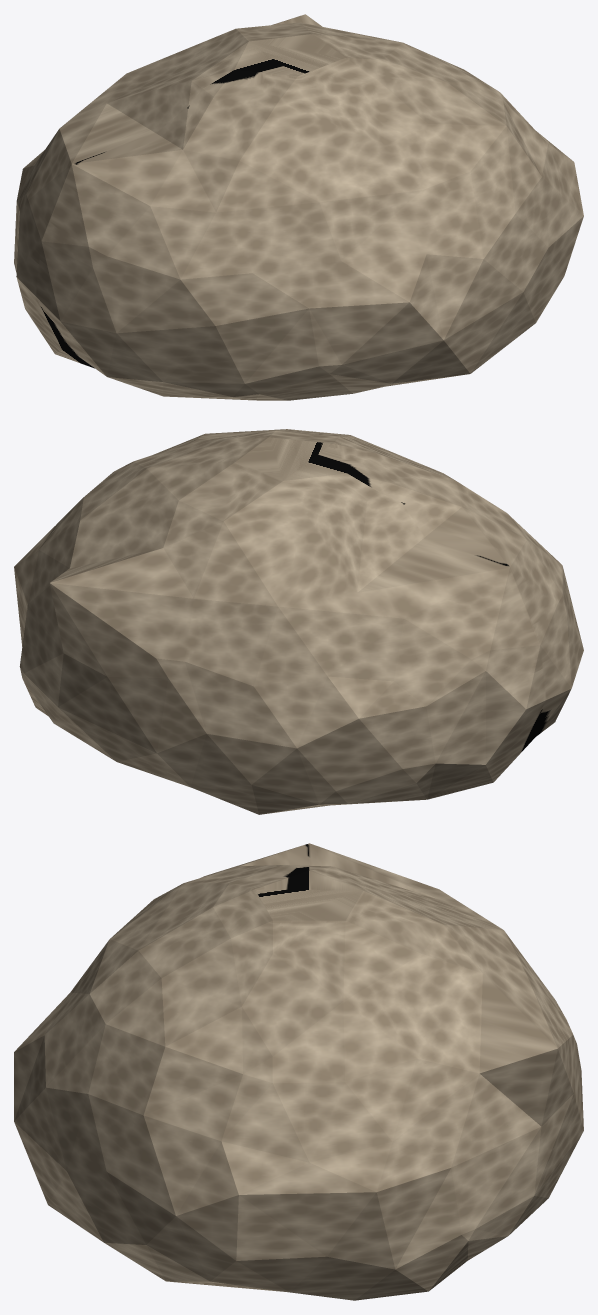
The model's file is 둥근강돌_01.fbx.
The picture shows the model from 3 angles, top to bottom: view 1: azimuth 30°, elevation 25°; view 2: azimuth 150°, elevation 25°; view 3: azimuth 270°, elevation 25°; orthographic projection. The views are drawn at different scales.
Parts seen in each view (by area): view 1: 둥근강돌_01; view 2: 둥근강돌_01; view 3: 둥근강돌_01.
Boxes of the visible parts, bbox=[...] form: 둥근강돌_01: bbox=[14, 14, 583, 400]; 둥근강돌_01: bbox=[14, 429, 583, 814]; 둥근강돌_01: bbox=[14, 843, 583, 1300].
Size of the model in its own units: 447 by 218 by 394.
1 material, 1 textured.
